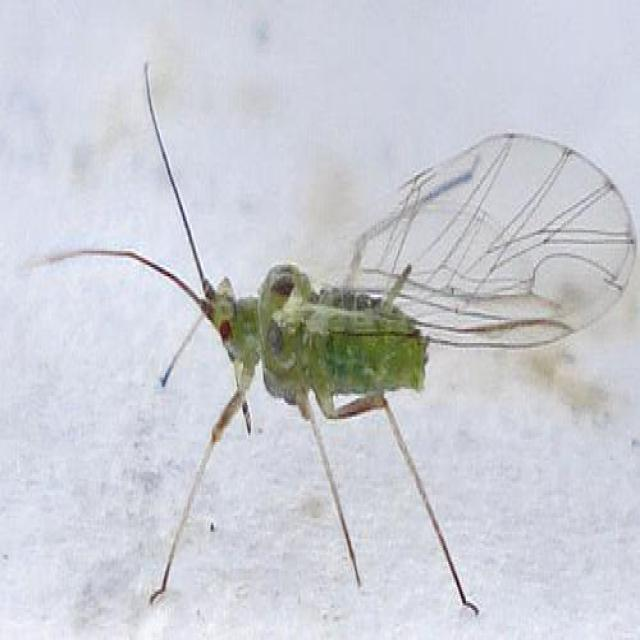Aphids: (43, 59, 631, 637)
